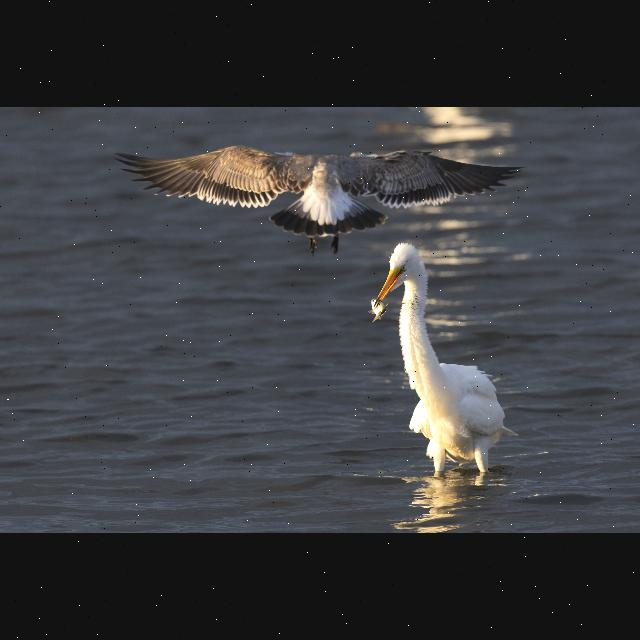egret: (366, 234, 516, 473)
heron: (106, 141, 524, 253)
